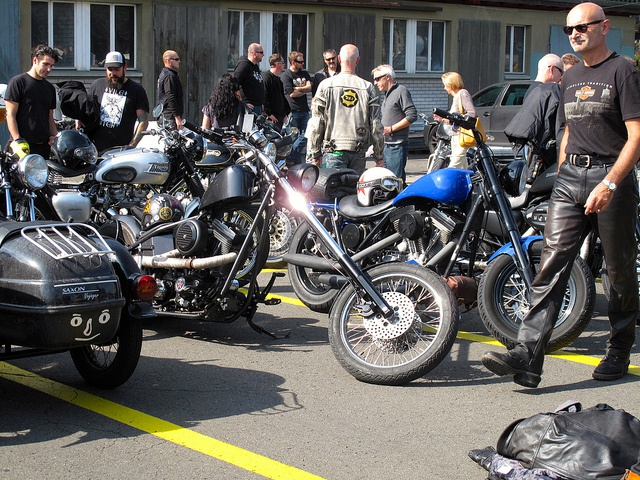non-vehicle: (49, 118, 466, 391), (283, 99, 601, 355), (0, 220, 161, 388), (498, 139, 639, 324), (98, 121, 217, 184), (242, 102, 307, 159)
